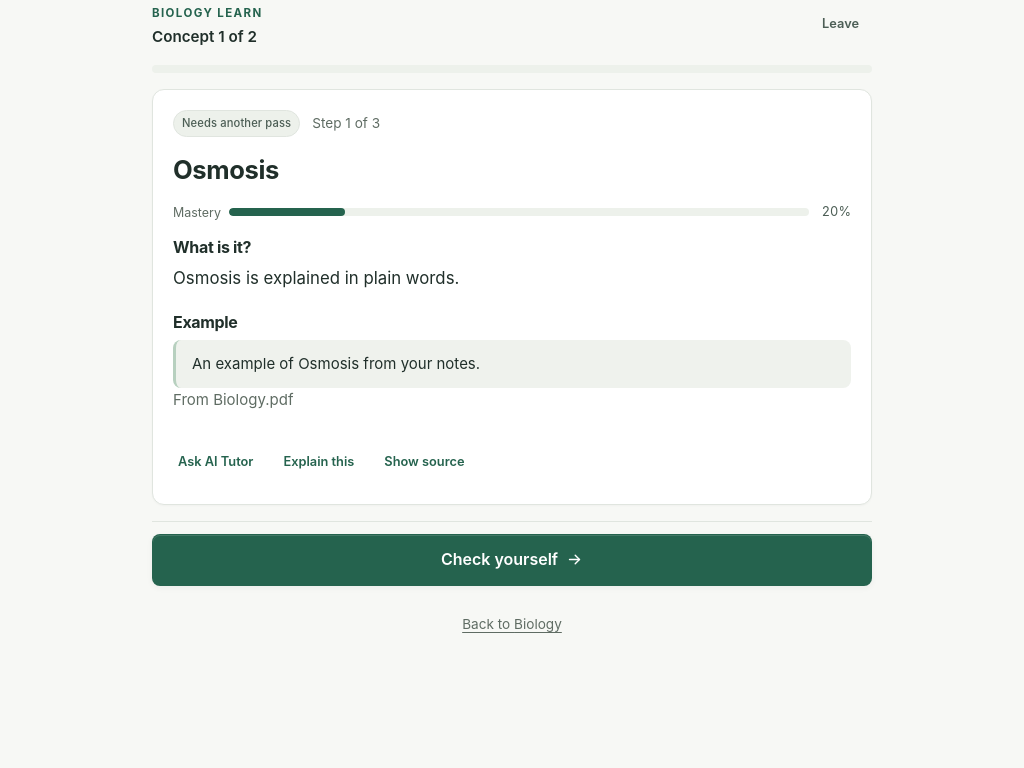
it: learn session › teaches a concept in three short screens: explanation and example, a check, a self-rating
Expected: the heading "Osmosis" is shown, [173,154,279,185]
Expected: the text "Concept 1 of 2" is shown, [152,27,257,46]
Step 1. Click the button "Check yourself" → click(512, 560), box [152,534,872,586]
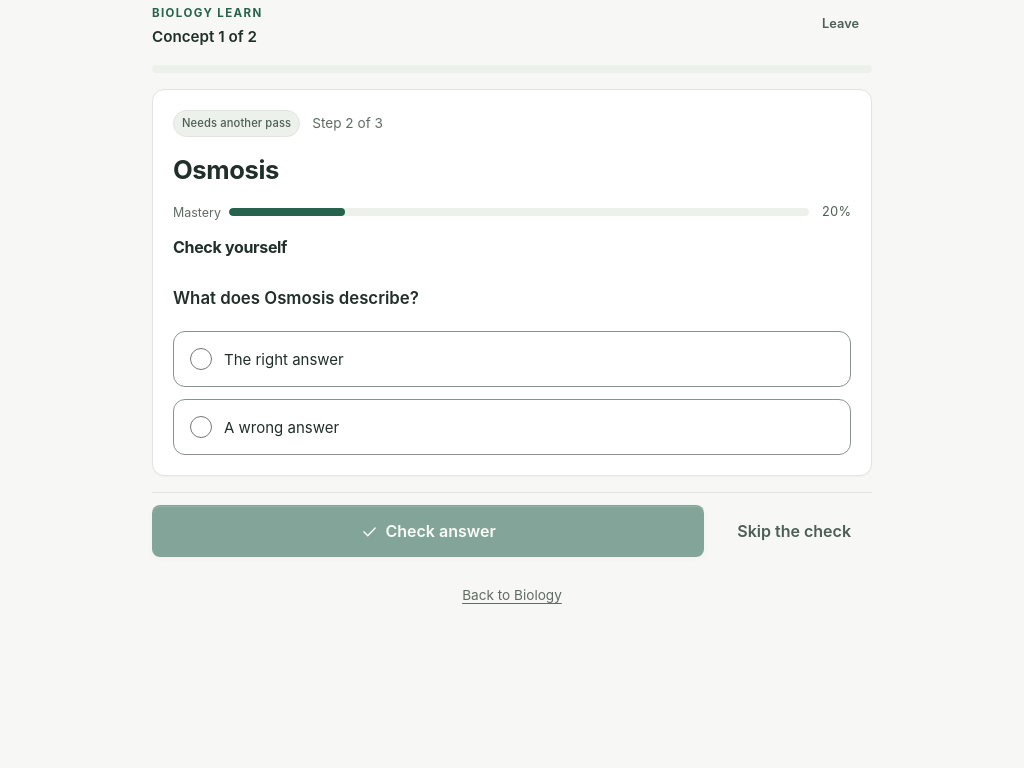
Expected: the text "Step 2 of 3" is shown, [312,113,383,134]
Expected: the text "What does Osmosis describe?" is shown, [173,288,419,308]
Expected: the button "Check answer" is disabled, [152,506,704,558]
Step 2. Click the radio button labelled "The right answer" → click(201, 360), box [190,348,212,370]
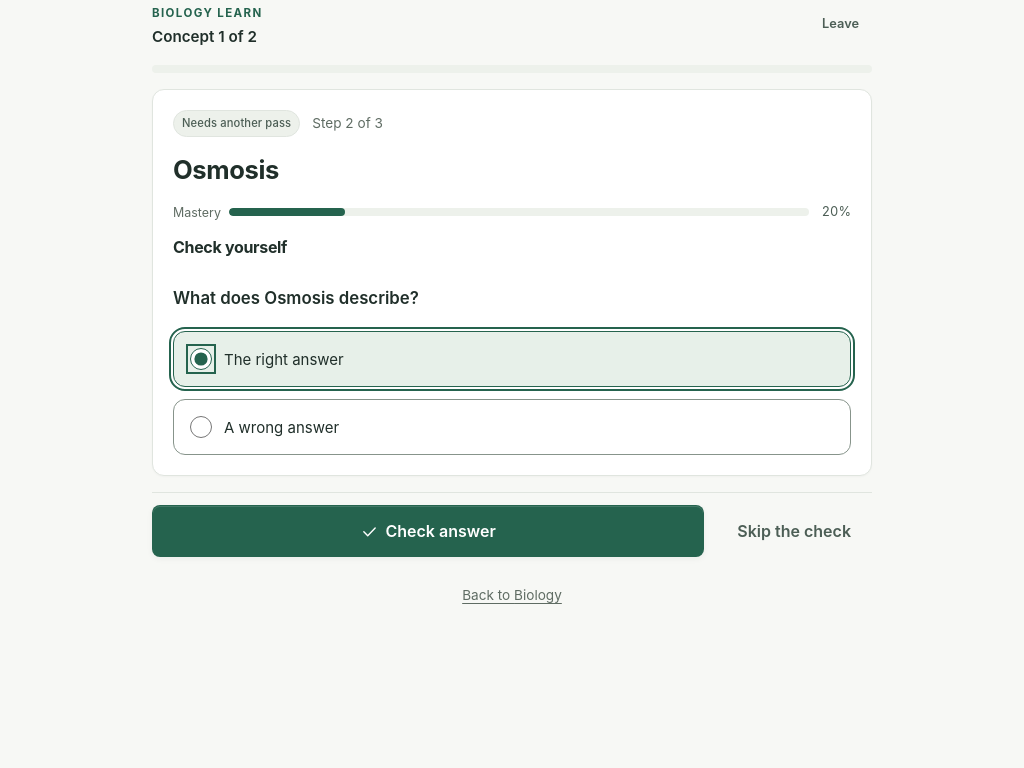
Step 3. Click the button "Check answer" → click(428, 532), box [152,506,704,558]
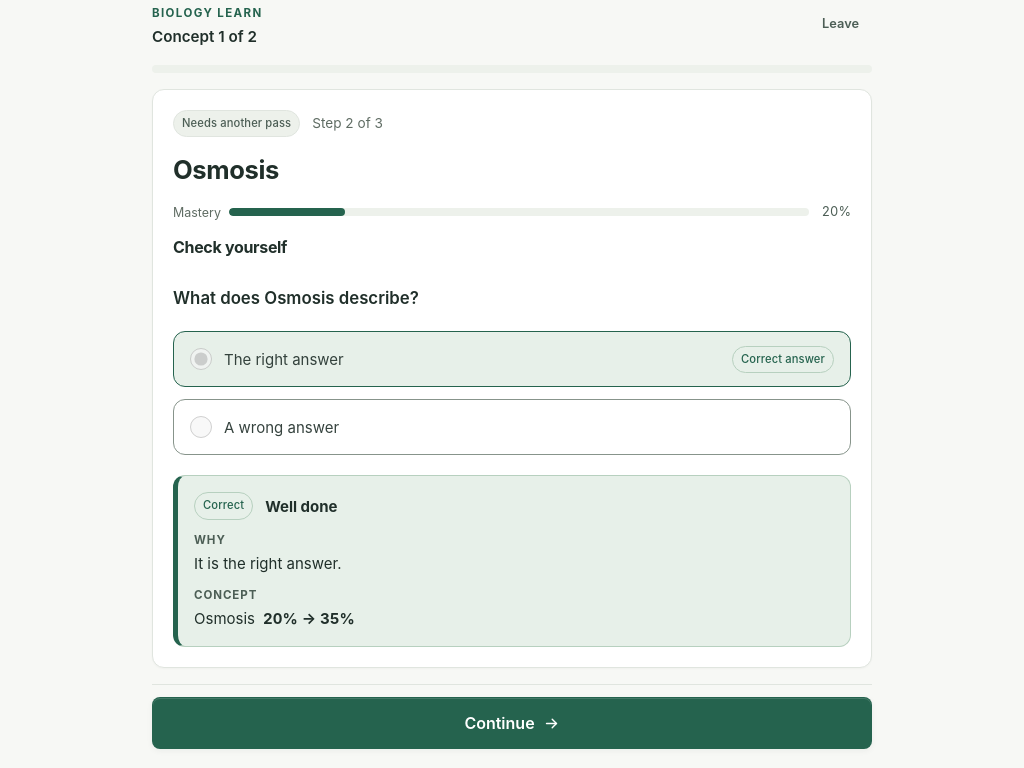
Expected: the text "Well done" is shown, [265,494,338,518]
Step 4. Click the button "Continue" → click(512, 723), box [152,697,872,749]
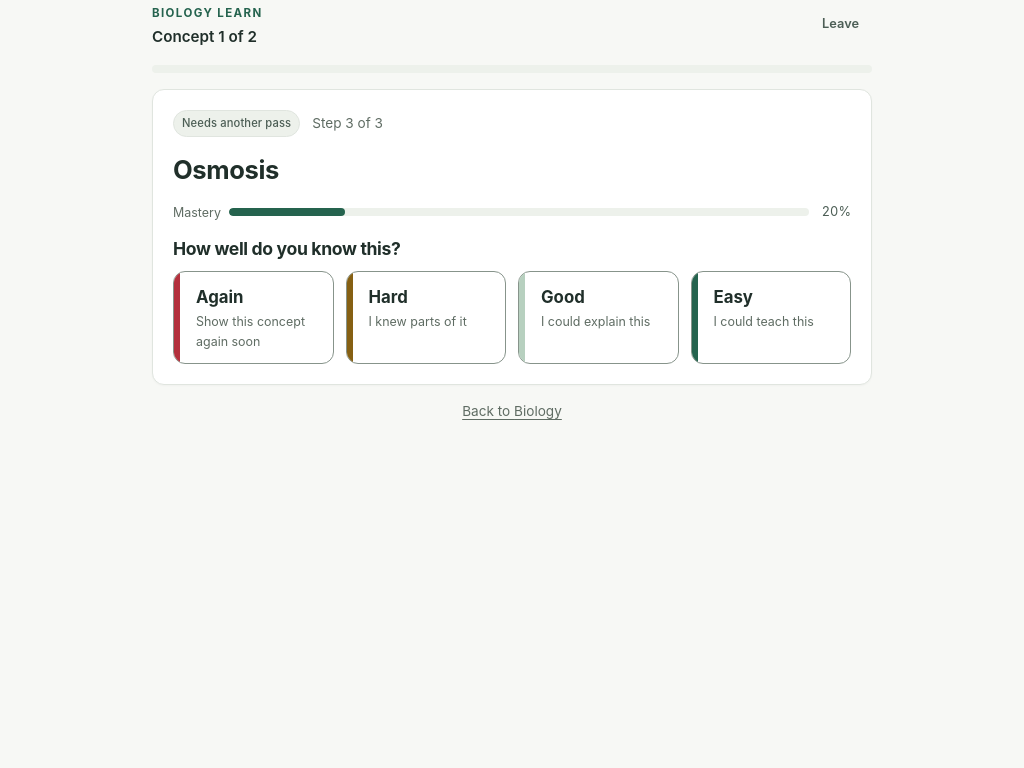
Expected: the text "Step 3 of 3" is shown, [312,113,383,134]
Step 5. Click the button "Good I could explain this" → click(598, 318), box [518,271,678,364]
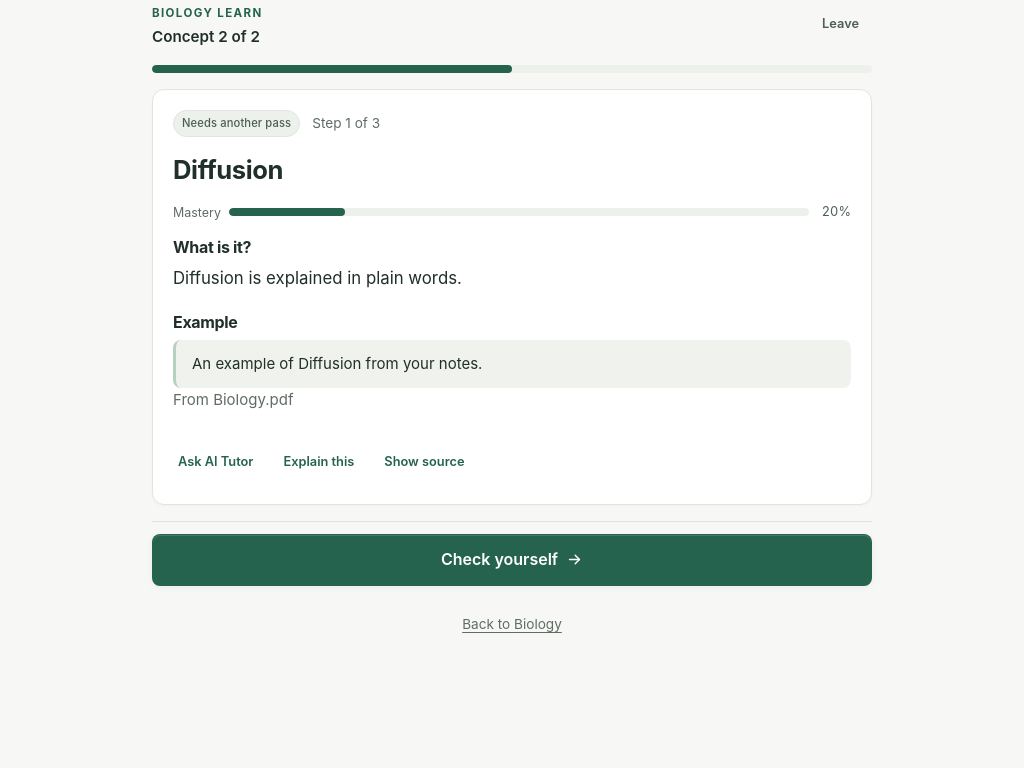
Expected: the heading "Diffusion" is shown, [173,154,283,185]
Expected: the text "Concept 2 of 2" is shown, [152,27,260,46]
Expected: the text "Step 1 of 3" is shown, [312,113,380,134]
